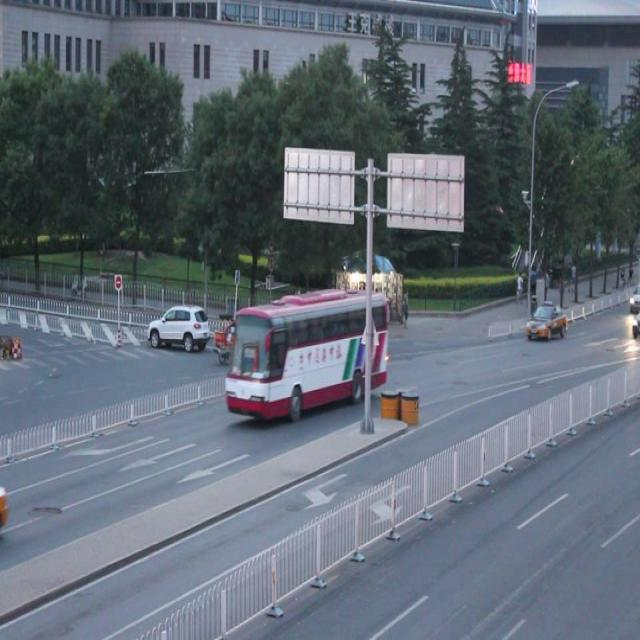car: (149, 307, 214, 358), (524, 298, 566, 340)
van: (230, 291, 388, 420)
